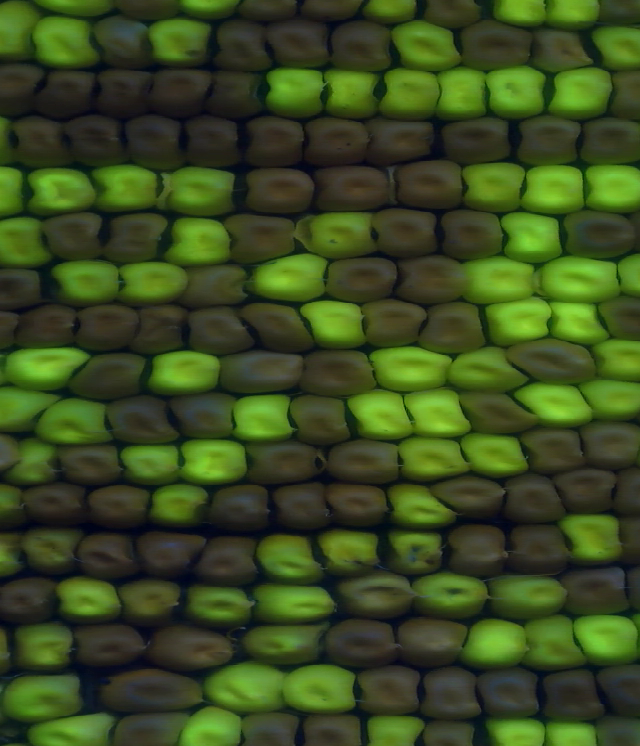fluorescent: (478, 566, 575, 621), (278, 657, 361, 718), (396, 385, 478, 445), (245, 576, 337, 629), (202, 662, 291, 716), (442, 344, 532, 397), (243, 255, 332, 307), (368, 341, 462, 390), (0, 672, 92, 722), (302, 288, 372, 352), (298, 209, 379, 264), (497, 205, 570, 266), (179, 578, 263, 631), (35, 10, 106, 72), (143, 348, 231, 398), (510, 160, 587, 217), (459, 426, 536, 483), (392, 433, 473, 487), (410, 566, 492, 619), (537, 252, 625, 301), (0, 342, 92, 388), (554, 512, 628, 569), (376, 63, 446, 123), (509, 380, 593, 430), (16, 708, 126, 746), (86, 160, 165, 212), (49, 253, 125, 307), (343, 390, 419, 444), (456, 256, 538, 306), (114, 257, 196, 307), (520, 614, 586, 676), (479, 295, 556, 348), (145, 17, 219, 72), (310, 526, 384, 581), (459, 158, 531, 214), (228, 390, 300, 446), (382, 479, 462, 529), (461, 613, 531, 670), (162, 216, 238, 268), (251, 532, 327, 584), (167, 163, 238, 218), (174, 436, 252, 485), (540, 295, 612, 348), (111, 439, 190, 487), (321, 61, 384, 120), (34, 400, 116, 445), (55, 574, 123, 628), (574, 612, 640, 667), (388, 19, 460, 69), (436, 63, 493, 126), (548, 63, 612, 118), (177, 701, 255, 746), (24, 165, 95, 214), (578, 162, 640, 218), (486, 68, 549, 123), (263, 66, 327, 119), (574, 373, 640, 424), (11, 621, 78, 671), (239, 621, 322, 661), (149, 480, 218, 526), (386, 527, 449, 576), (0, 214, 56, 269), (585, 22, 640, 76), (5, 436, 64, 484), (480, 712, 556, 746), (0, 1, 42, 60), (0, 386, 59, 428), (587, 336, 640, 381), (359, 713, 430, 746), (493, 1, 556, 33), (540, 715, 604, 746), (548, 1, 606, 35), (35, 1, 119, 22), (178, 1, 242, 27), (0, 483, 36, 528), (368, 1, 419, 24)
nonfluorescent: (236, 297, 320, 361), (503, 333, 602, 386), (99, 392, 185, 452), (138, 624, 239, 675), (360, 112, 442, 172), (433, 114, 519, 170), (92, 669, 203, 712), (438, 516, 511, 580), (455, 19, 535, 77), (555, 564, 635, 622), (323, 15, 399, 76), (215, 342, 304, 394), (308, 165, 398, 216), (557, 207, 640, 262), (68, 347, 152, 401), (158, 390, 241, 444), (537, 661, 608, 724), (123, 107, 190, 173), (181, 108, 248, 173), (240, 436, 322, 489), (388, 157, 467, 212), (417, 296, 489, 356), (296, 345, 379, 397), (392, 249, 470, 304), (182, 303, 257, 360), (219, 210, 298, 264), (350, 663, 427, 718), (362, 296, 436, 353), (368, 205, 446, 259), (324, 251, 403, 304), (211, 18, 284, 75), (287, 392, 360, 449), (323, 621, 403, 673), (391, 615, 471, 667), (241, 112, 311, 171), (436, 204, 506, 263), (239, 167, 318, 219), (458, 387, 543, 435), (476, 664, 547, 721), (321, 436, 405, 484), (418, 665, 487, 723), (144, 62, 214, 119), (299, 116, 374, 169), (429, 474, 510, 522), (205, 482, 277, 536), (68, 622, 154, 666), (190, 533, 257, 589), (267, 479, 335, 534), (509, 114, 582, 165), (62, 111, 125, 170), (322, 476, 394, 527), (77, 482, 153, 530), (103, 208, 171, 261), (130, 301, 190, 361), (68, 302, 140, 352), (74, 531, 147, 580), (132, 530, 205, 579), (52, 438, 126, 486), (202, 65, 264, 122), (38, 213, 107, 264), (14, 299, 83, 350), (500, 524, 573, 572), (552, 463, 619, 515), (517, 426, 588, 475), (577, 114, 640, 169), (90, 65, 154, 119), (89, 15, 155, 67), (499, 473, 566, 524), (576, 421, 640, 474), (178, 265, 257, 307), (265, 16, 333, 64), (18, 485, 92, 529), (0, 55, 47, 124), (43, 66, 97, 120), (113, 711, 196, 746), (528, 28, 590, 74), (13, 115, 70, 165), (117, 577, 177, 622), (0, 574, 55, 623), (231, 713, 306, 746), (300, 711, 370, 746), (595, 292, 640, 344), (599, 662, 640, 717), (422, 1, 489, 31), (416, 716, 481, 746), (0, 267, 44, 310), (296, 1, 367, 25), (608, 67, 640, 120), (238, 1, 304, 25), (116, 1, 187, 23), (590, 715, 640, 746), (607, 471, 640, 511), (599, 1, 640, 23)
